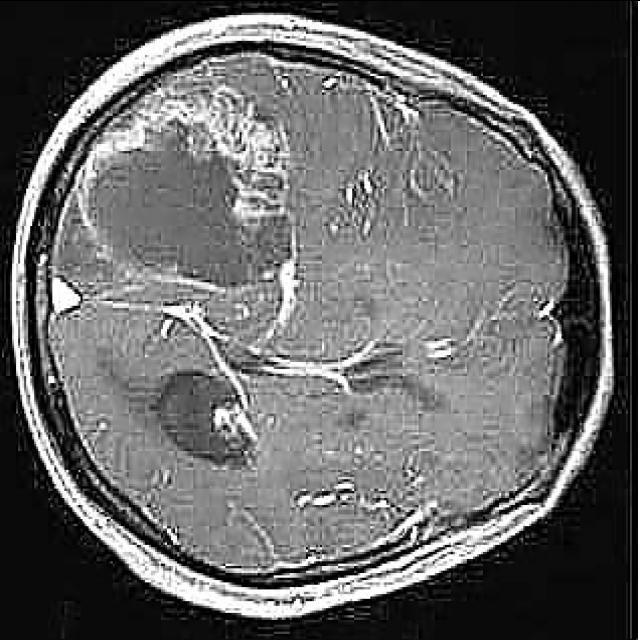tumor: (60, 104, 292, 285), (153, 368, 260, 471)
